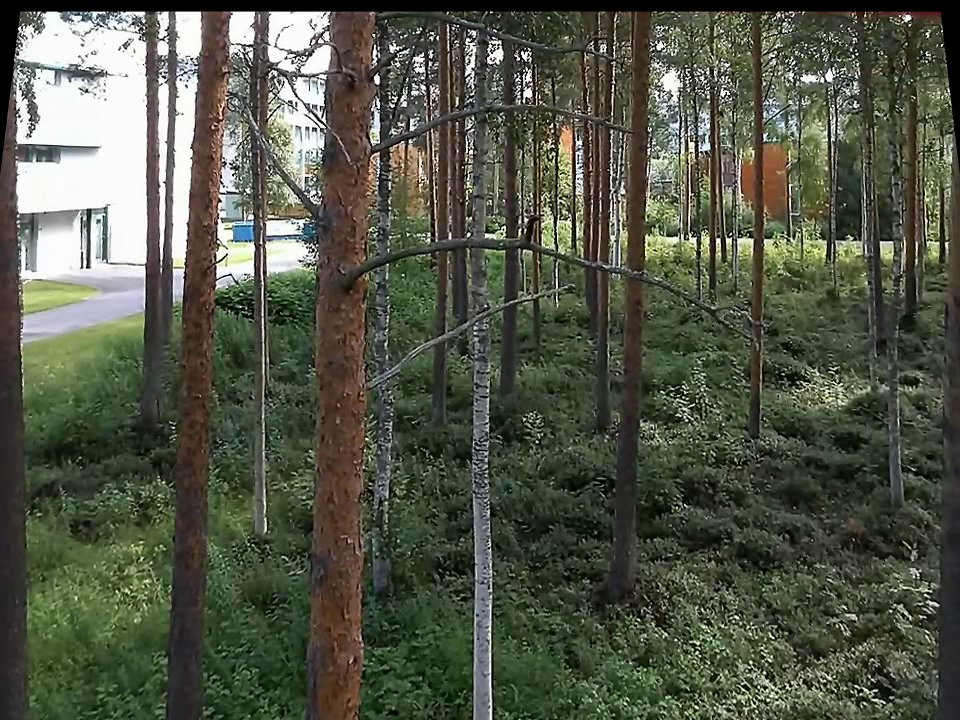branch: (365, 206, 756, 343), (366, 98, 636, 159)
trunk: (152, 22, 239, 709), (300, 13, 382, 713), (464, 49, 509, 713), (607, 25, 646, 596), (243, 21, 283, 538), (135, 30, 175, 436), (743, 22, 775, 446)
